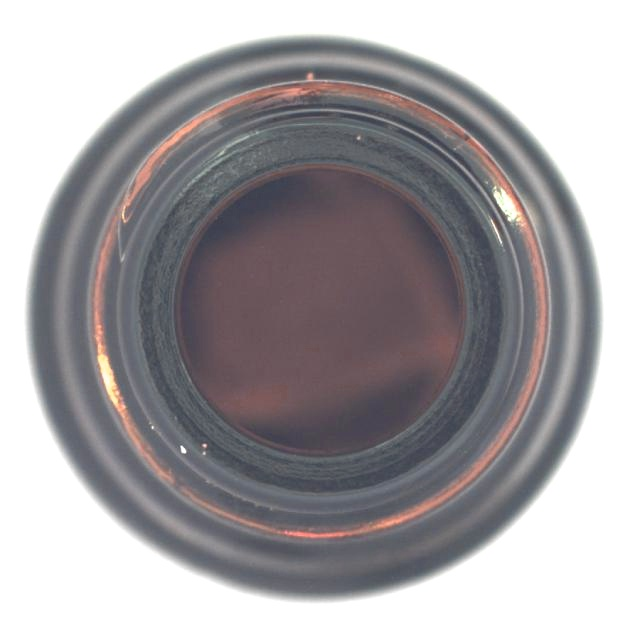bad-contamination: (23, 31, 605, 607)
